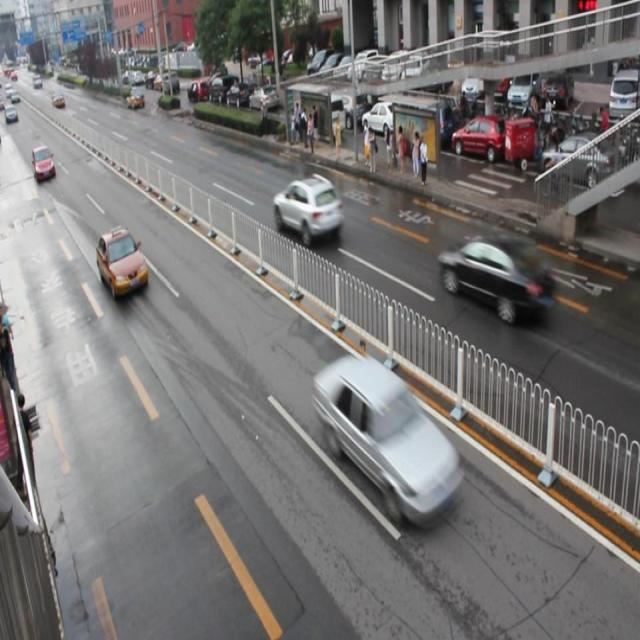car: (314, 352, 462, 524), (438, 234, 555, 324), (272, 176, 342, 242), (96, 226, 148, 299)
